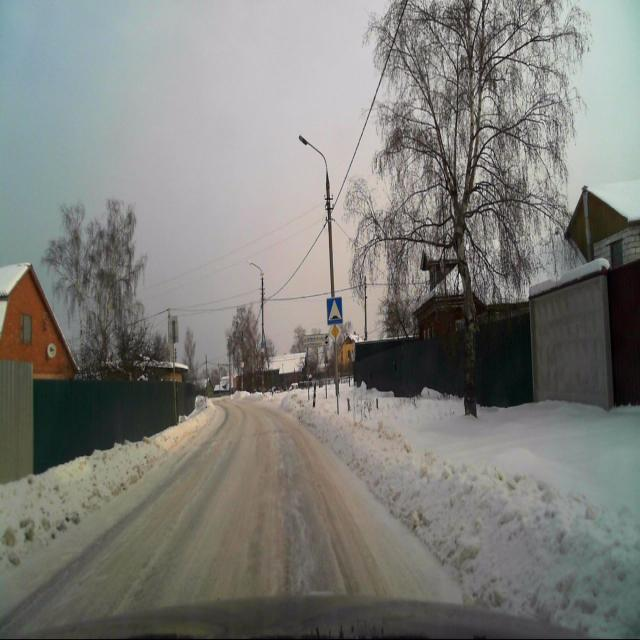road sign: (326, 297, 342, 324)
